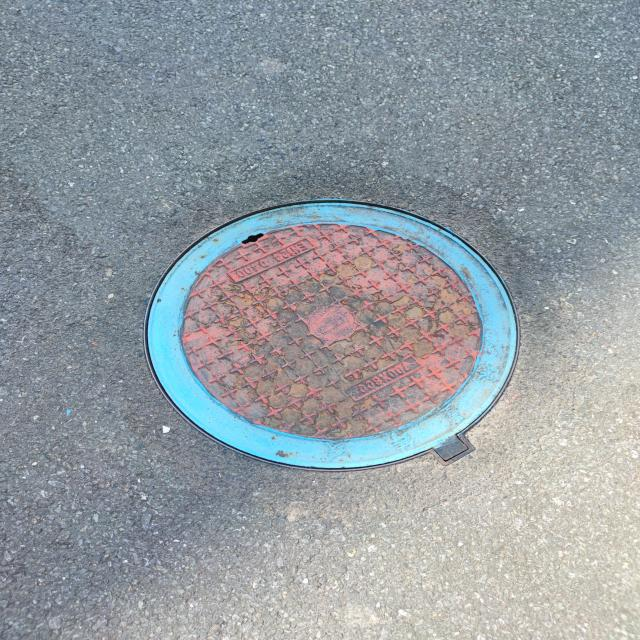Good: (139, 194, 527, 478)
